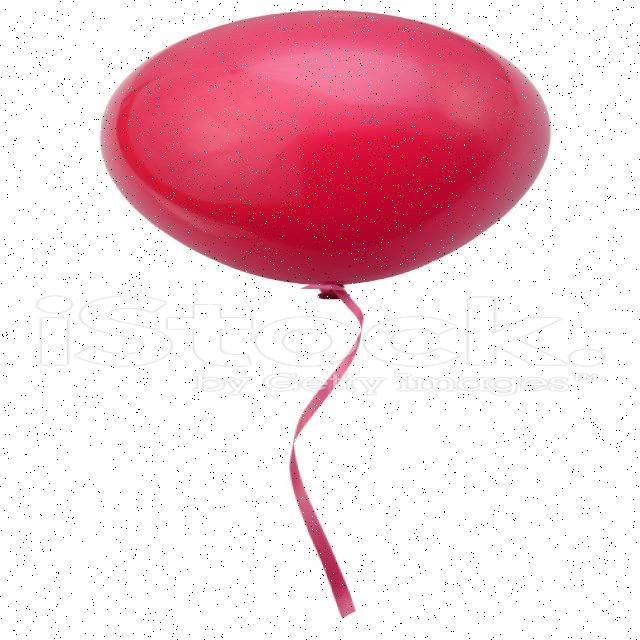red: (95, 0, 556, 304)
